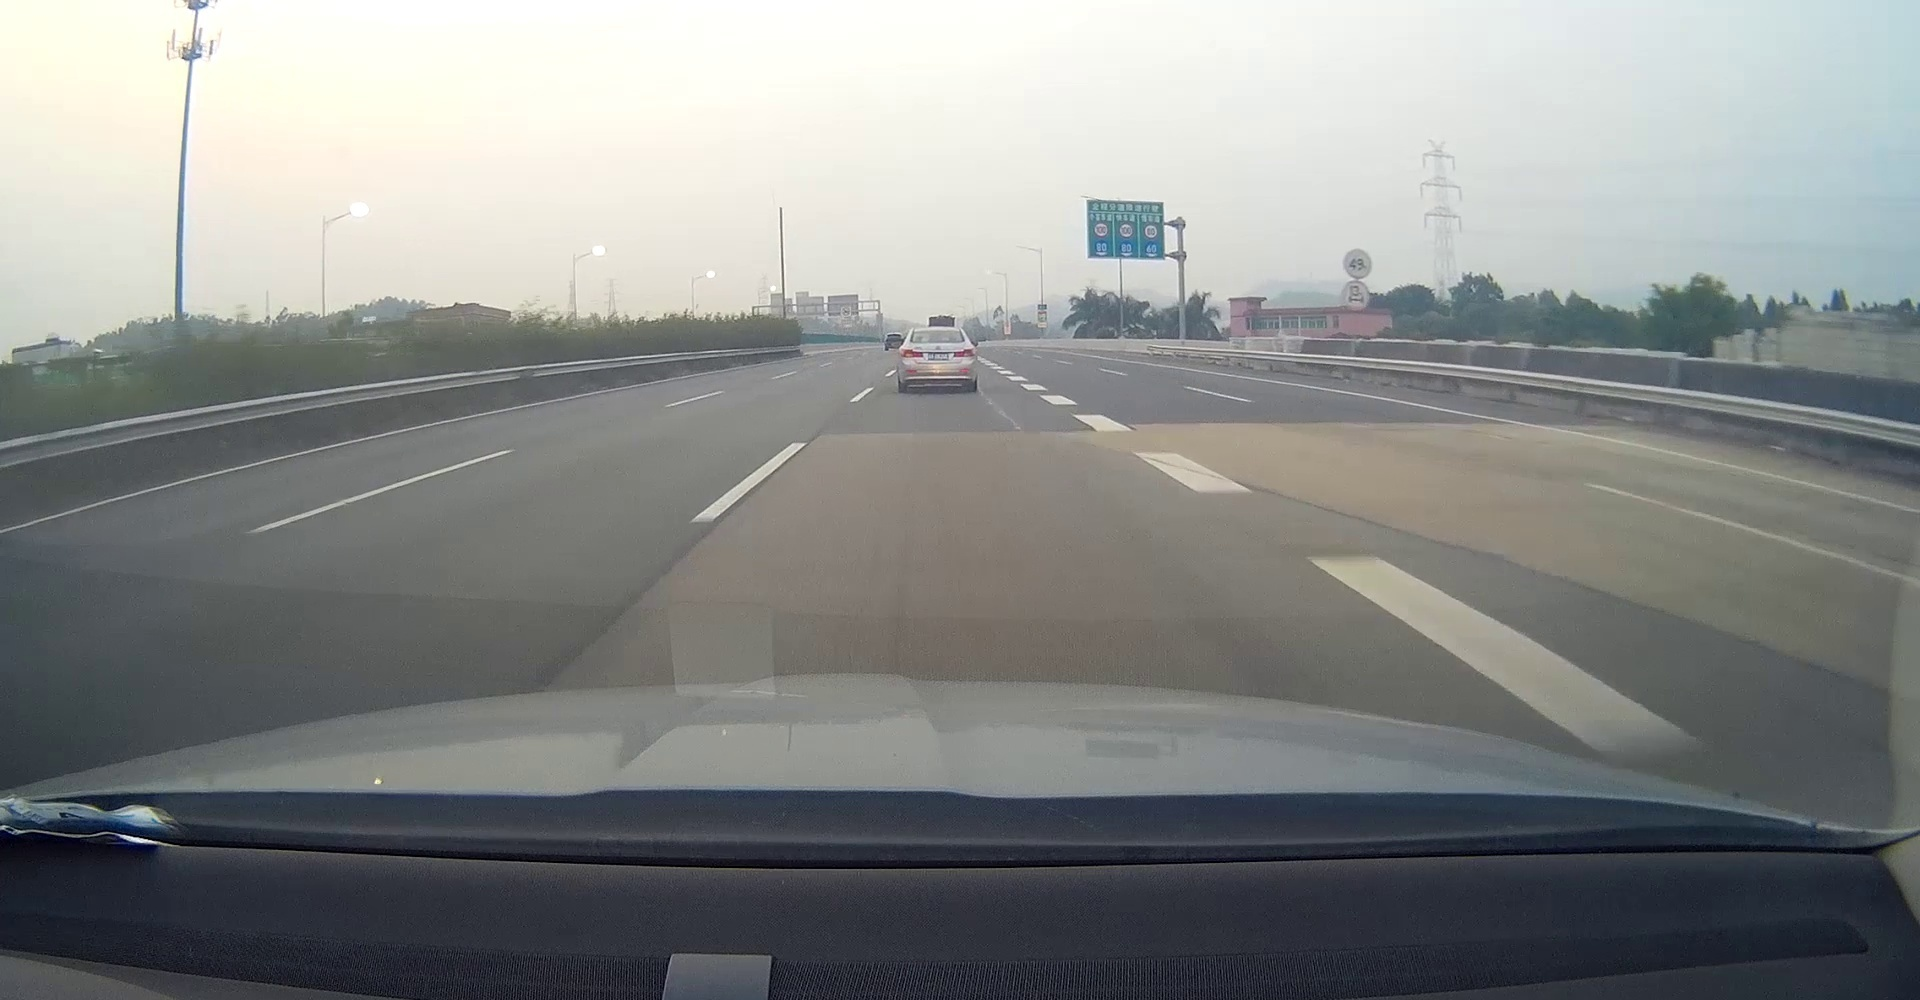L_light: (900, 348, 924, 358)
R_light: (952, 346, 977, 357)
T_light: (931, 330, 943, 332)
day-no: (897, 327, 977, 392)
